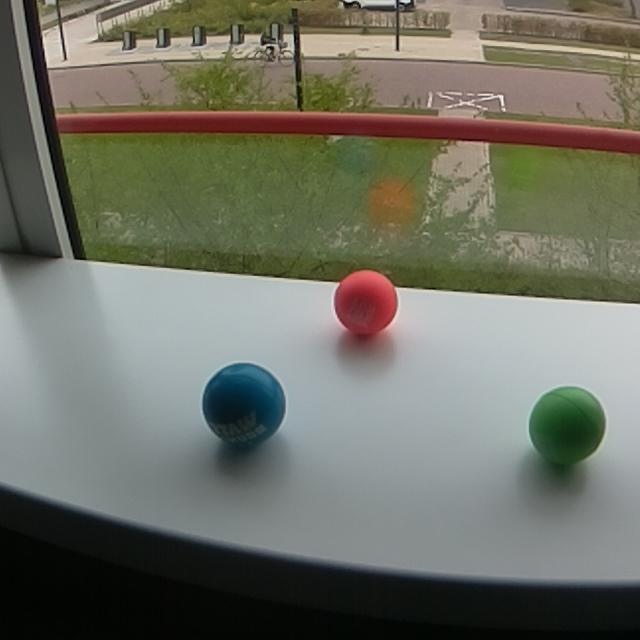ball: (199, 359, 288, 453), (526, 383, 608, 469), (330, 265, 402, 339)
